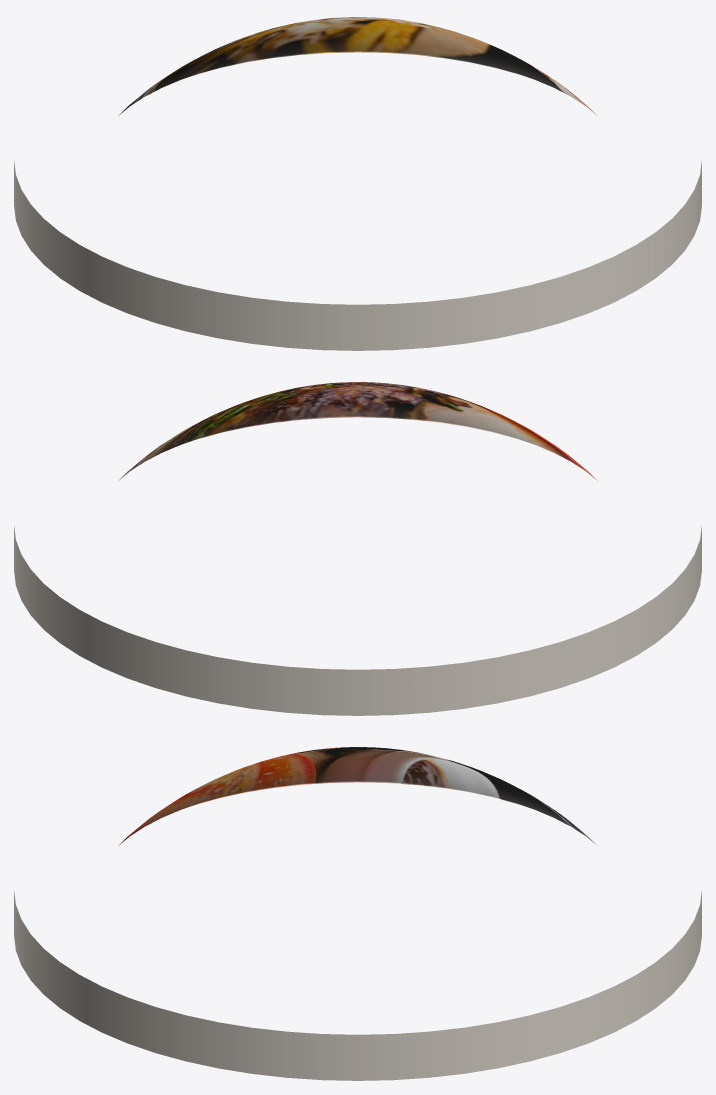
Rendered from continental.glb.
The picture shows the model from 3 angles, top to bottom: view 1: azimuth 30°, elevation 25°; view 2: azimuth 150°, elevation 25°; view 3: azimuth 270°, elevation 25°; orthographic projection.
Visible parts, largest first — view 1: continental; view 2: continental; view 3: continental.
Boxes of the visible parts, bbox=[...] form: continental: bbox=[14, 17, 701, 350]; continental: bbox=[14, 382, 701, 715]; continental: bbox=[14, 747, 701, 1080].
Size of the model in its own units: 0.27 by 0.069 by 0.27.
1 material, 1 textured.
